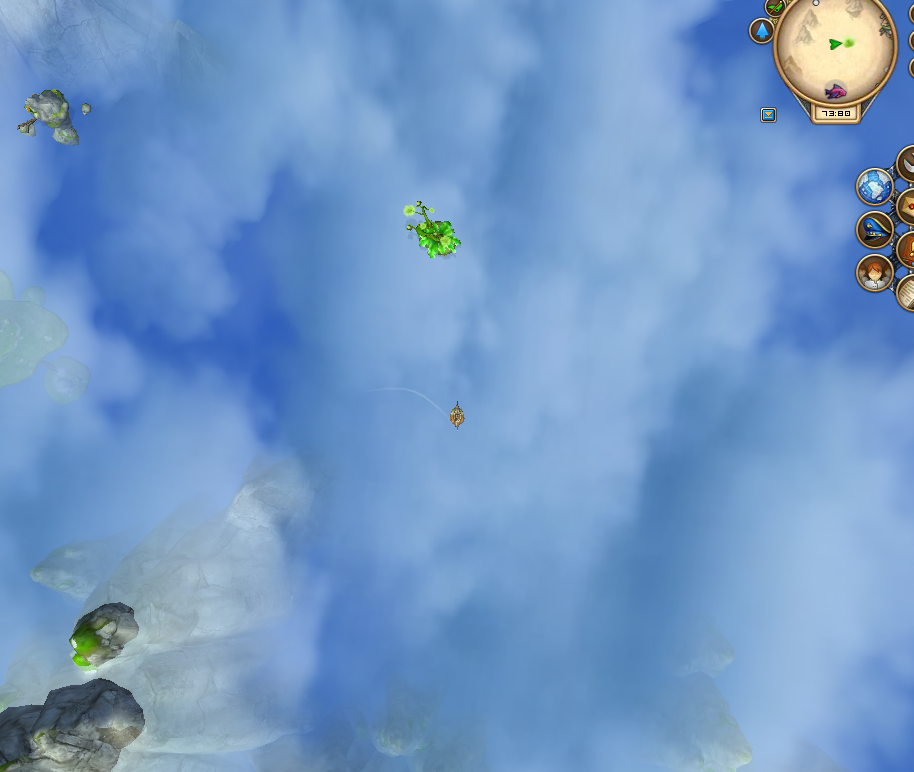dandelion-full: (396, 194, 465, 267)
